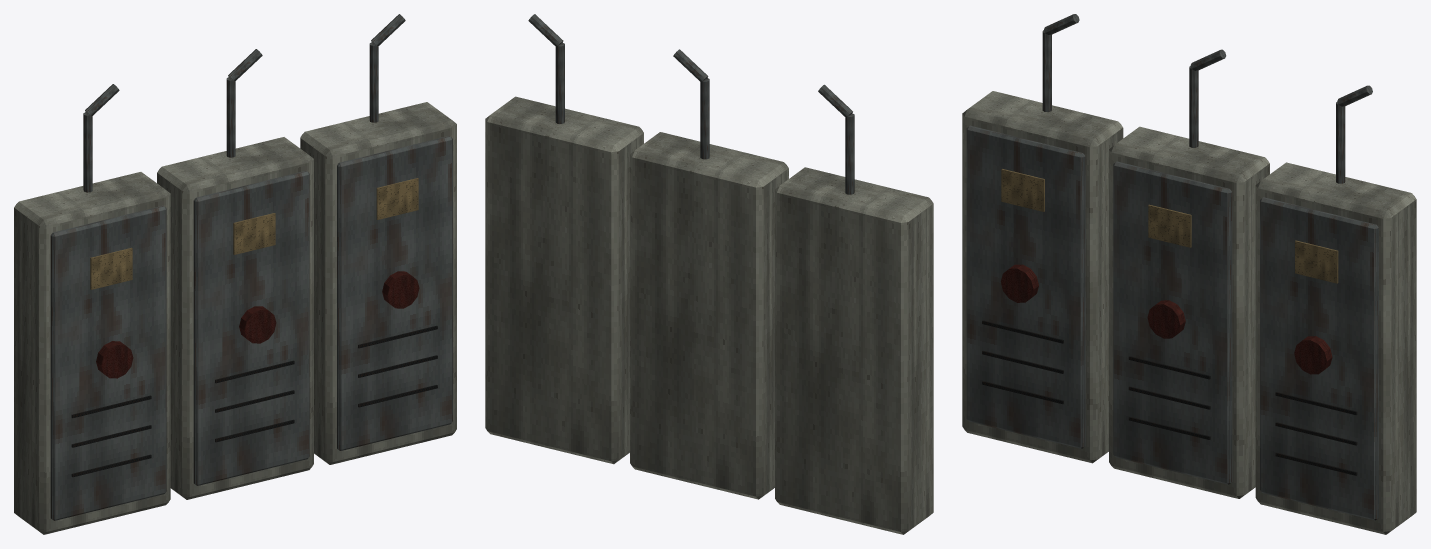
File: level_electrical_bank_worn.glb
The picture shows the model from 3 angles, left to right: view 1: azimuth 30°, elevation 25°; view 2: azimuth 150°, elevation 25°; view 3: azimuth 330°, elevation 25°; orthographic projection. The views are drawn at different scales.
Visible parts, largest first — view 1: level_electrical_bank_worn; view 2: level_electrical_bank_worn; view 3: level_electrical_bank_worn.
Boxes of the visible parts, x1,y1,x2,y2 form: level_electrical_bank_worn: (14,14,456,534); level_electrical_bank_worn: (485,14,933,534); level_electrical_bank_worn: (962,14,1416,534).
Bounding box in the file's own units: 2.22 × 2.12 × 0.37.
Materials: 5 (5 with a texture image).
